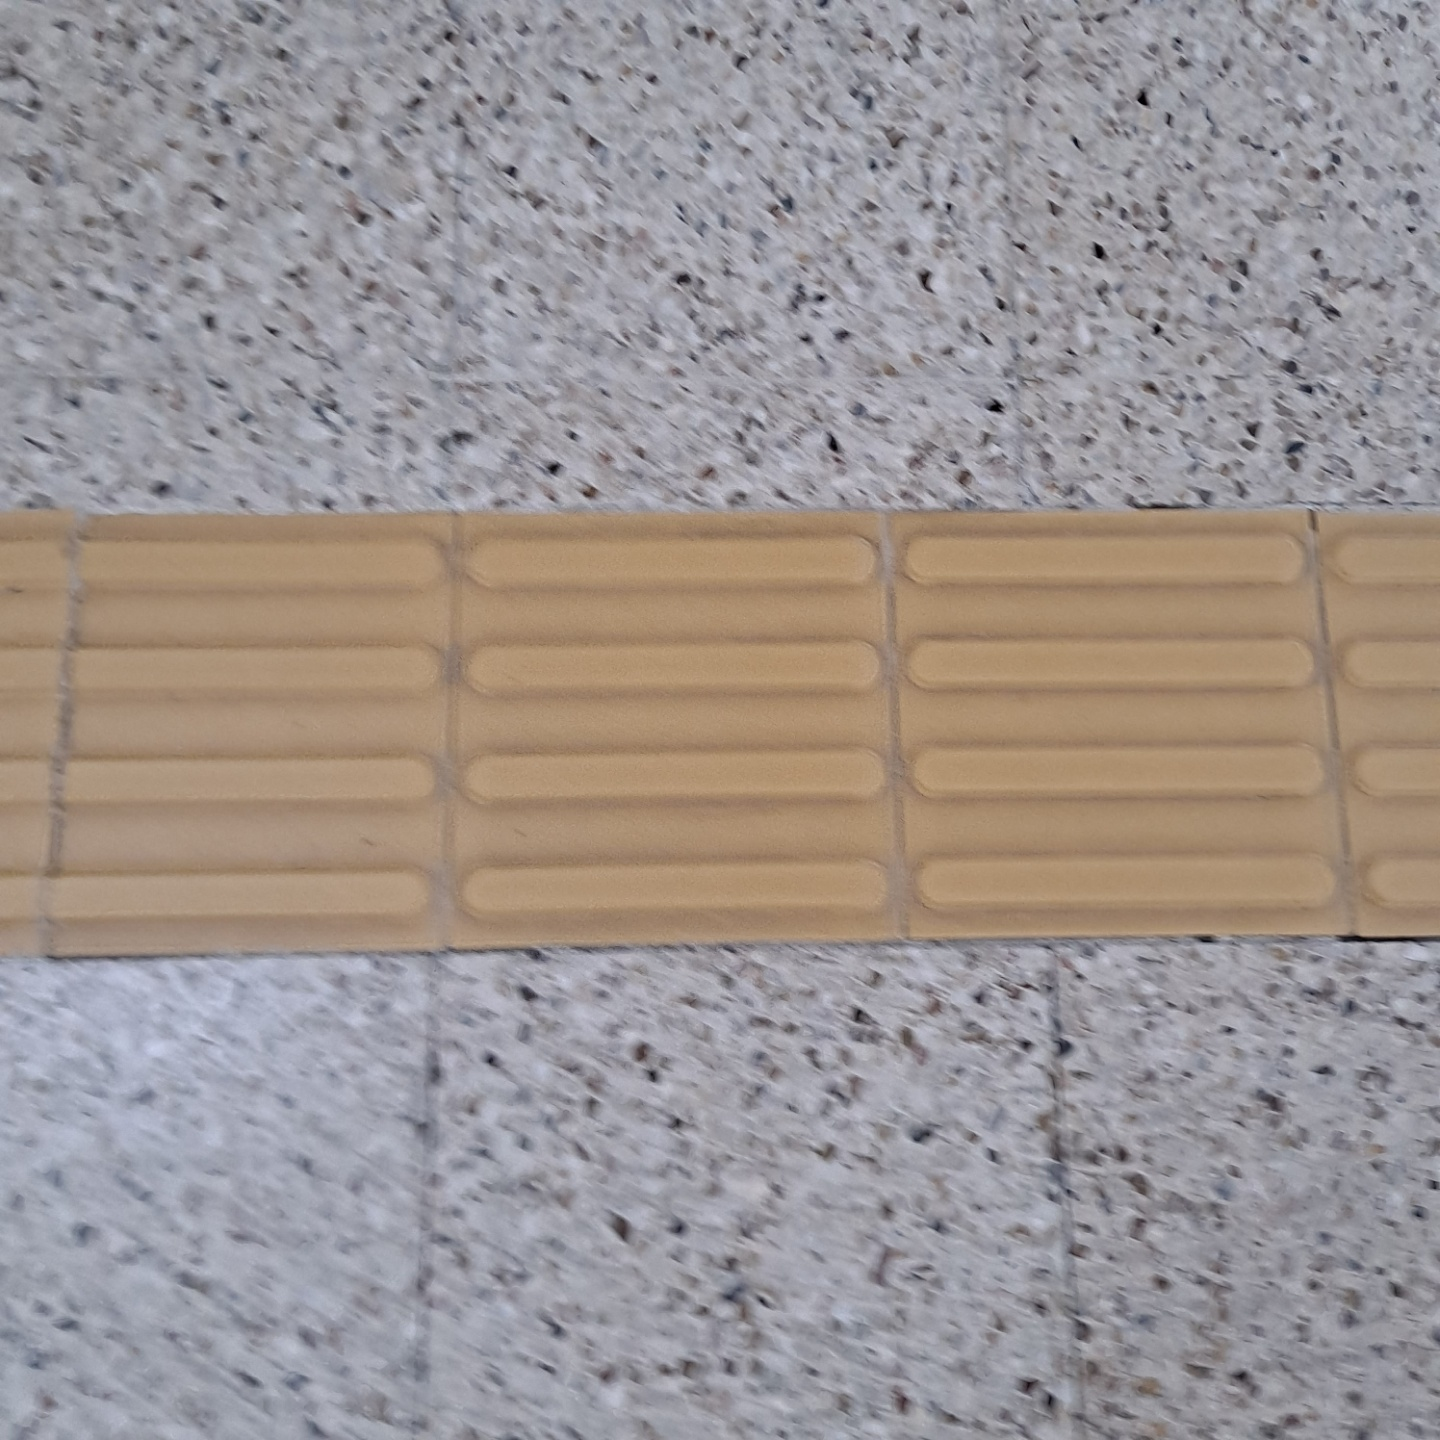guideBlock: (29, 513, 451, 949), (477, 516, 914, 935), (906, 526, 1352, 928), (1332, 524, 1440, 920)
